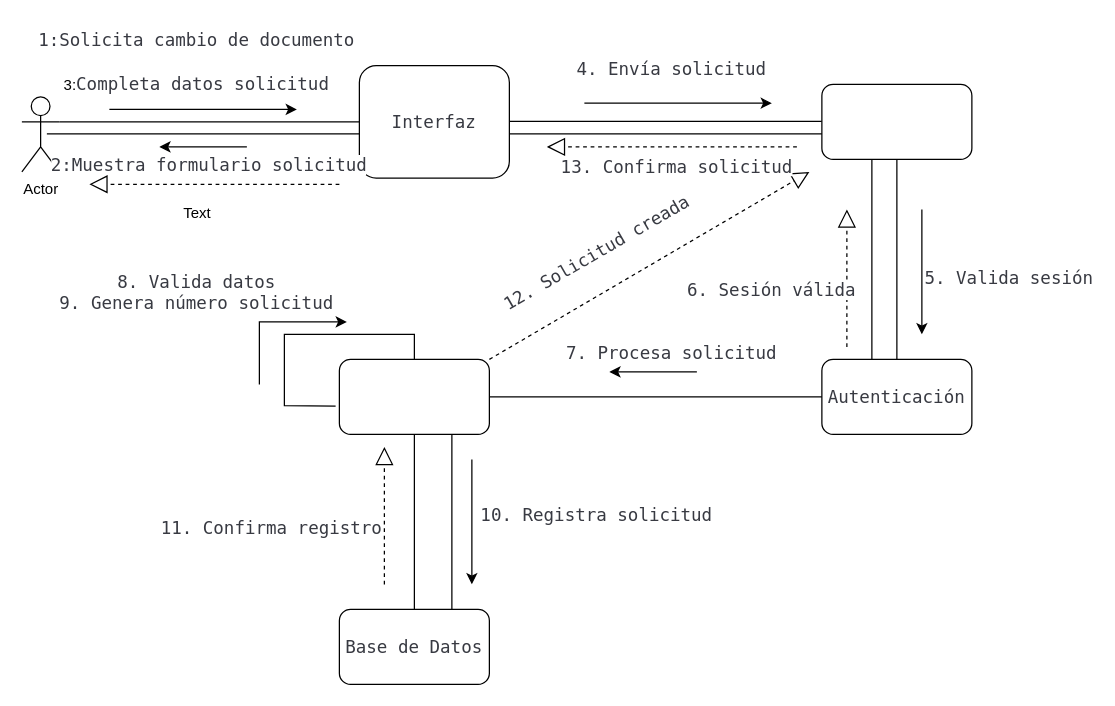
The diagram is 1115 pixels wide and 706 high, and some of its shapes have lost their labels. The box of each missing label's shape, as (x1, y1, x2, y2) in pixels:
Servicio Solicitudes: (338, 358, 489, 434)
Servidor: (821, 83, 972, 159)
